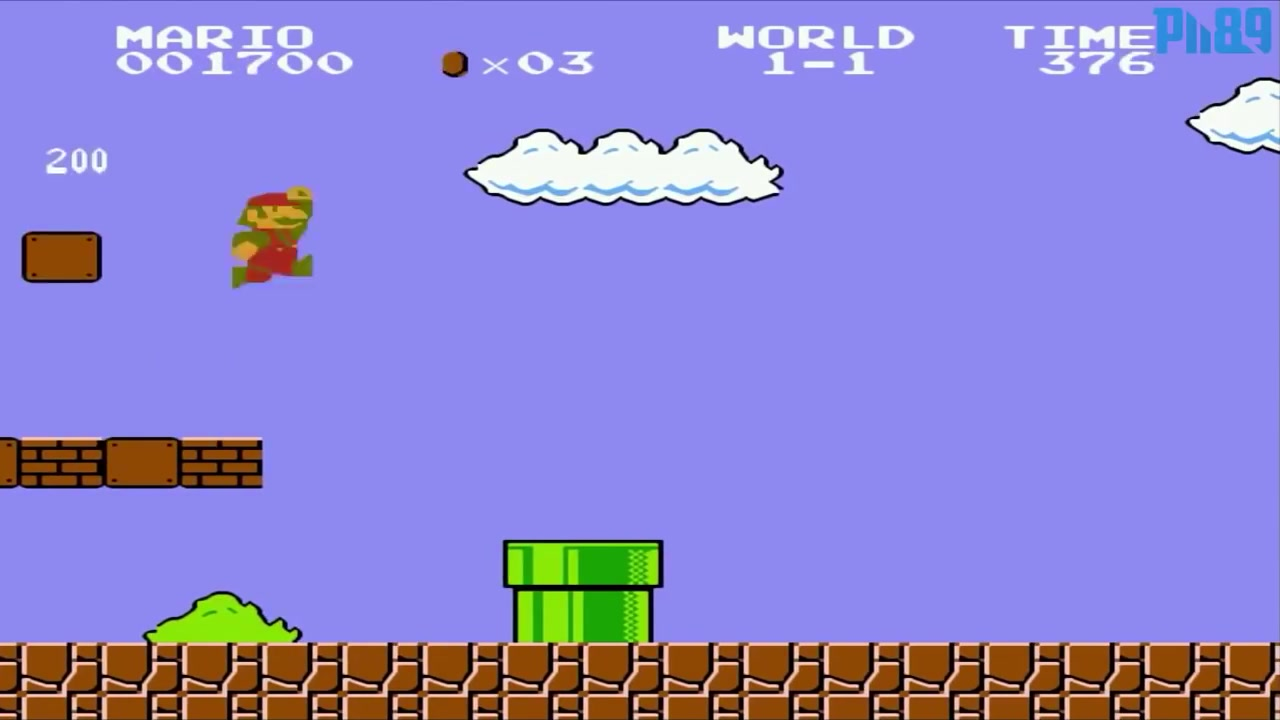mario: (223, 177, 321, 291)
